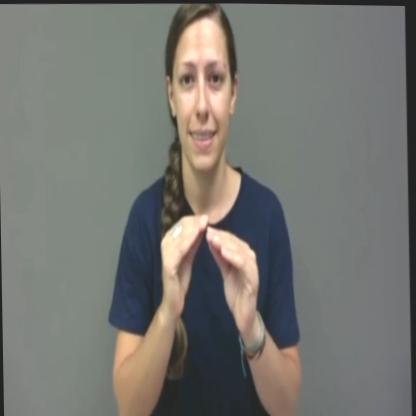Fix: (107, 1, 303, 416)
